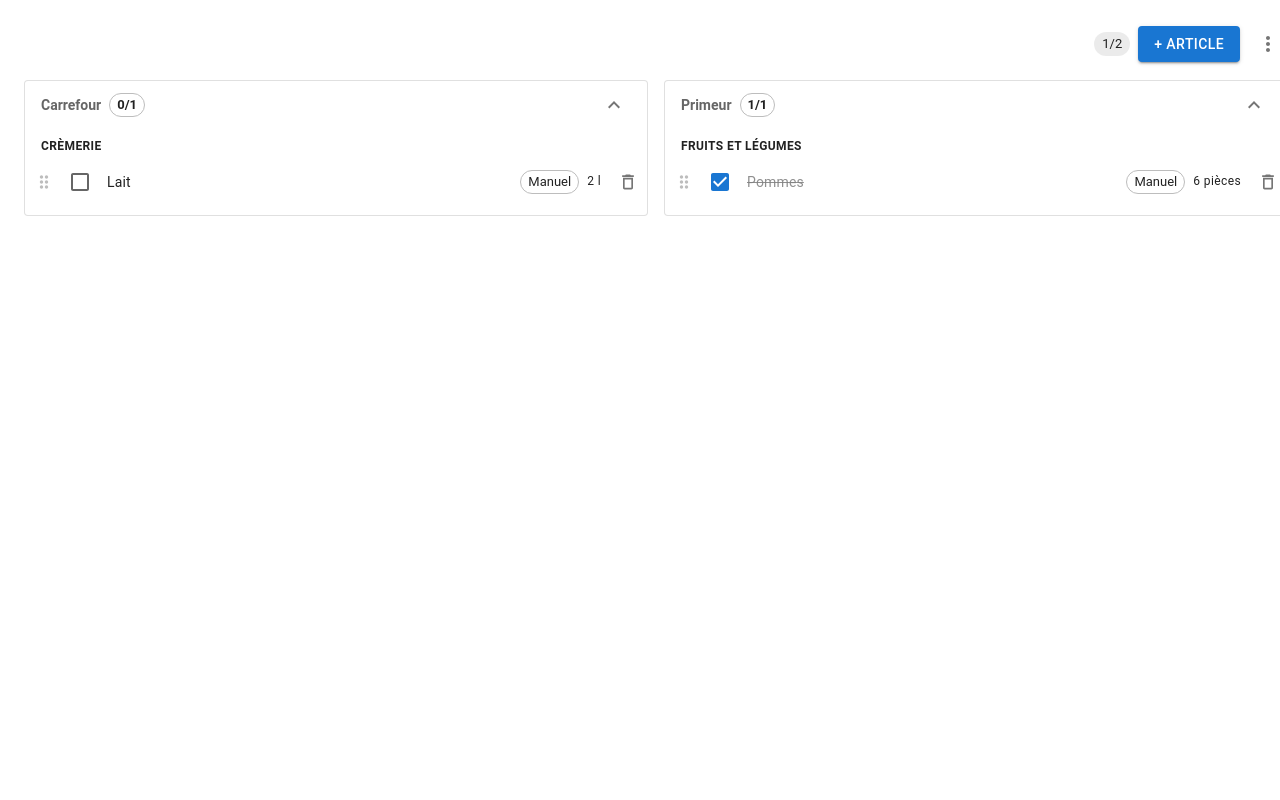
Scenario: GroceryListView — the page of the mockup › « Terminer les courses » ends the errand
This screenshot has width=1280, height=800.
Expected: the text "Lait" is shown, [107, 174, 131, 190]
Click the button named "Plus d'actions" at coordinates (1264, 44), box [1248, 24, 1279, 64]
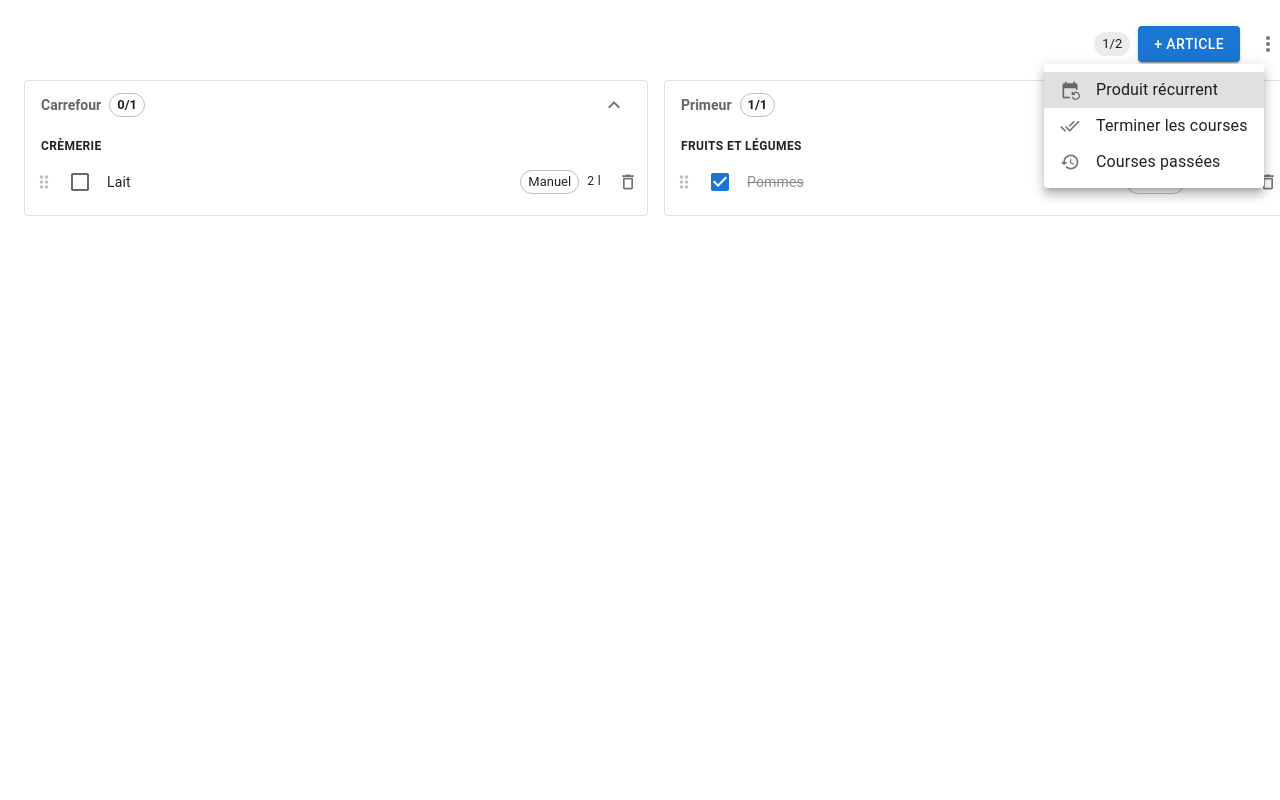
Click the menu item "Terminer les courses" at coordinates (1154, 126), box [1060, 116, 1248, 136]
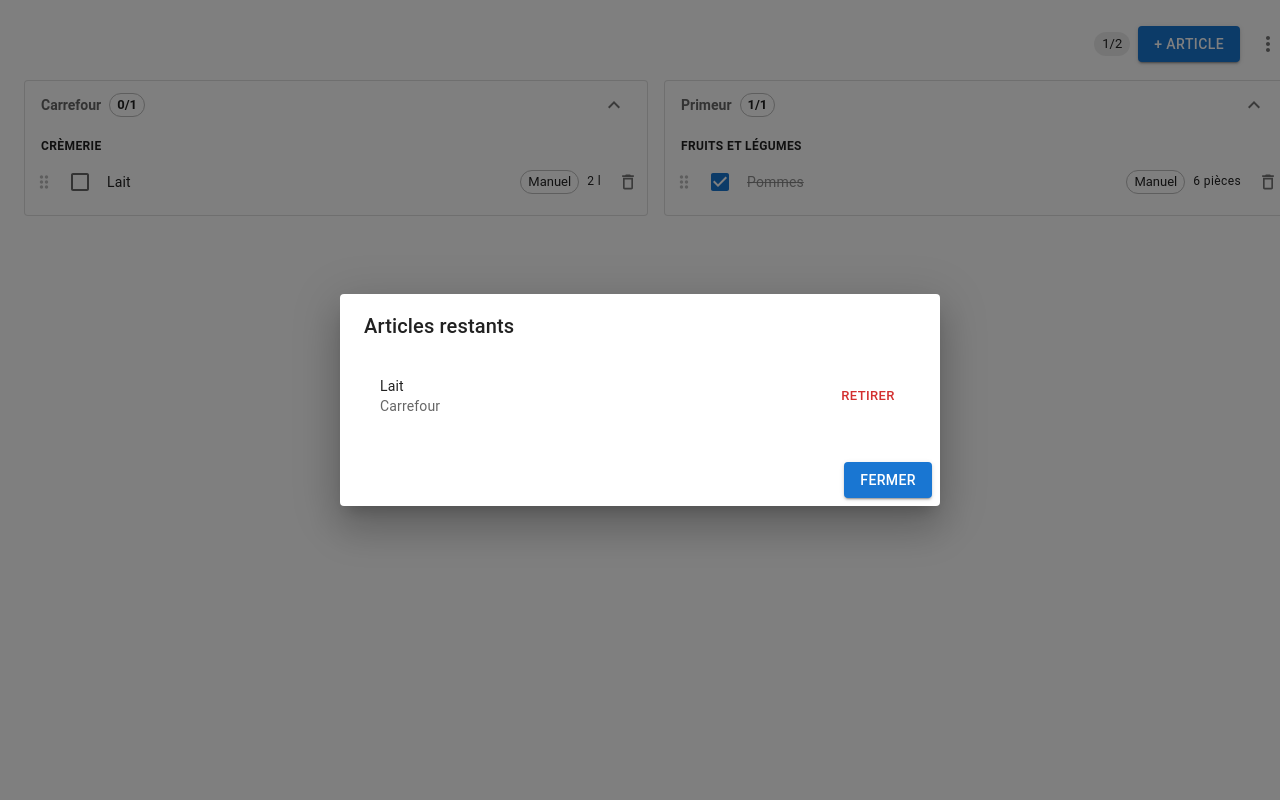
Now the dialog "Articles restants" is shown, box [340, 294, 940, 506]
